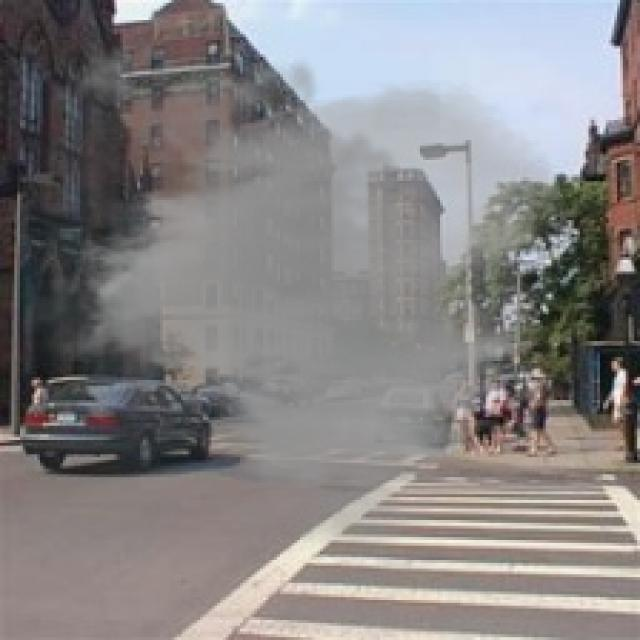Smoke: (22, 23, 568, 563)
